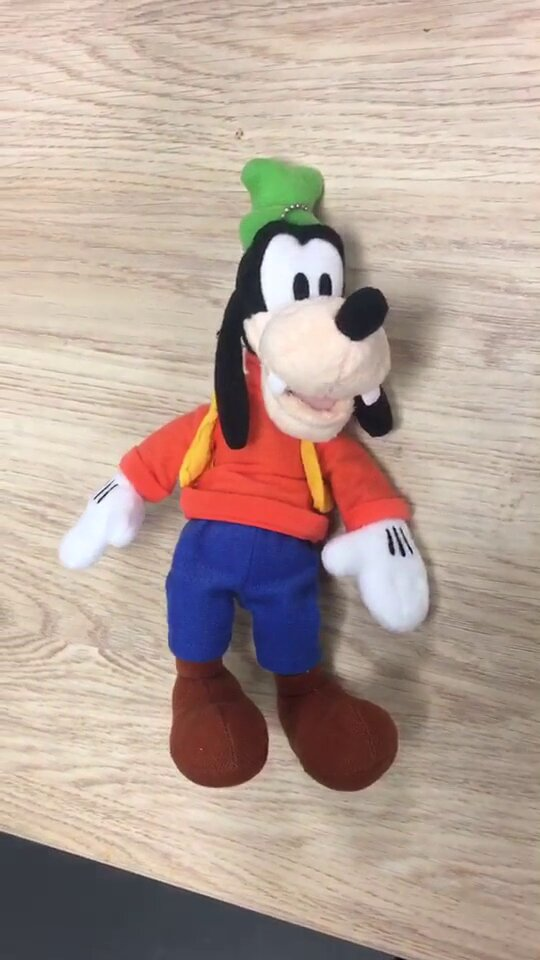goofy: (55, 155, 436, 797)
